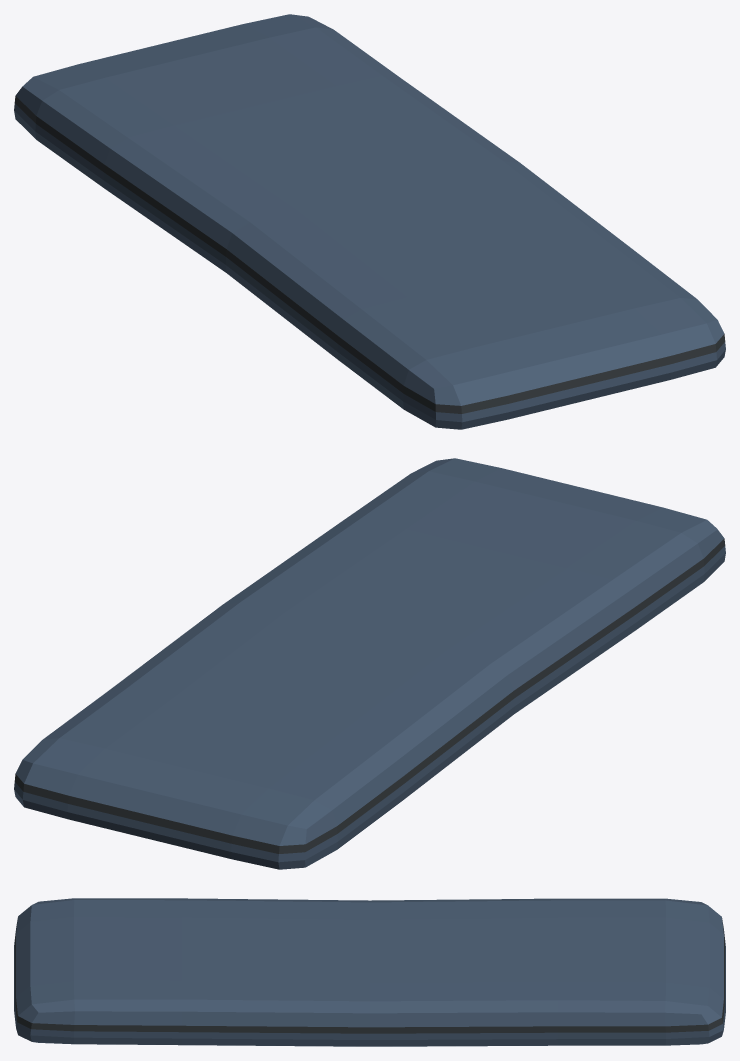
Rendered from SleepingBag_01.fbx.
3 renders of one model, top to bottom at view 1: azimuth 30°, elevation 25°; view 2: azimuth 150°, elevation 25°; view 3: azimuth 270°, elevation 25°, orthographic. The views are drawn at different scales.
Parts seen in each view (by area): view 1: SleepingBag_01; view 2: SleepingBag_01; view 3: SleepingBag_01.
Part boxes in pixels (x1,y1,x2,y2): SleepingBag_01: (14,14,725,429); SleepingBag_01: (14,458,725,869); SleepingBag_01: (14,898,725,1046).
Bounding box in the file's own units: 80.14 × 12.46 × 200.
